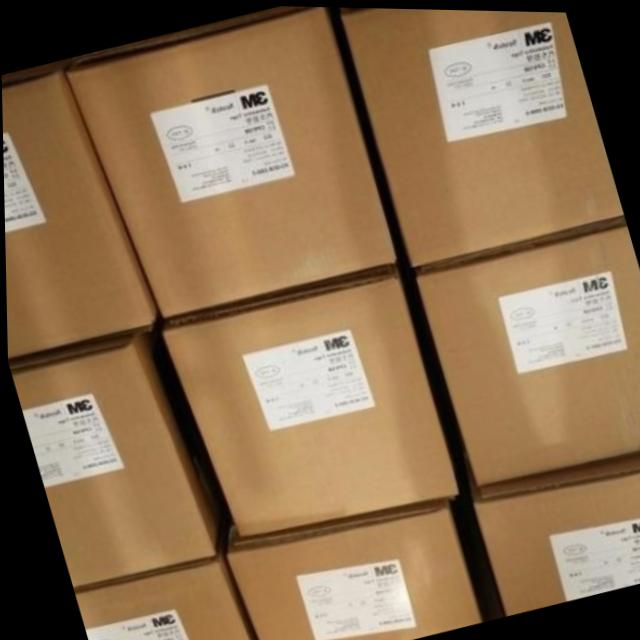box: (69, 5, 393, 316), (161, 257, 460, 534), (341, 6, 623, 264), (414, 211, 640, 485), (6, 325, 220, 588), (2, 74, 161, 355), (226, 493, 479, 640), (468, 447, 640, 613), (71, 552, 259, 640)
